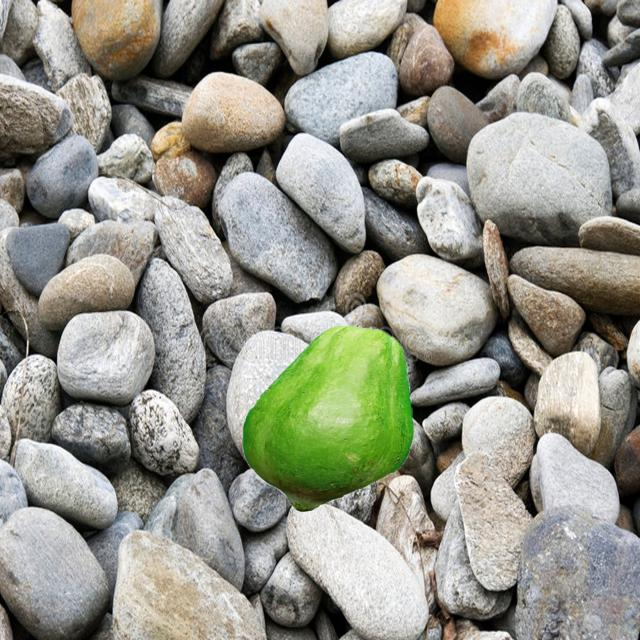Pepaya unrippen: (234, 325, 416, 512)
